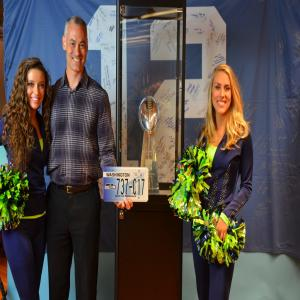Vehicle-registration-plate: (104, 166, 149, 204)
